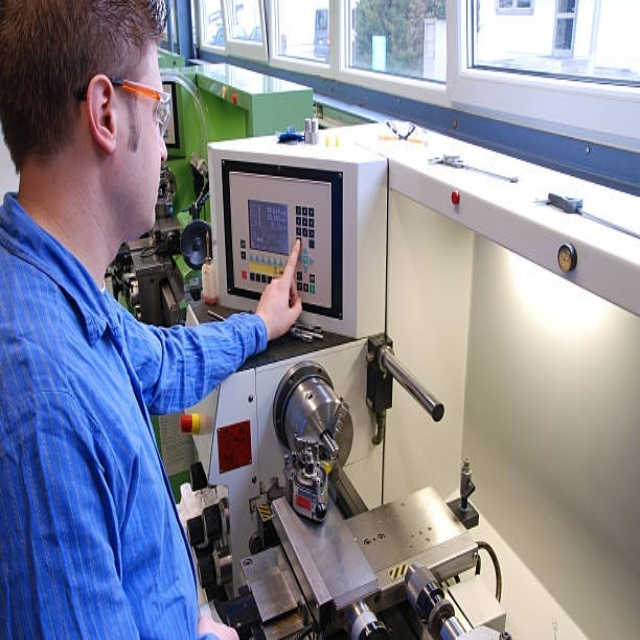Gafas: (75, 75, 169, 137)
Sin_guantes: (256, 237, 305, 341)
Sin_mascara: (127, 148, 169, 228)
